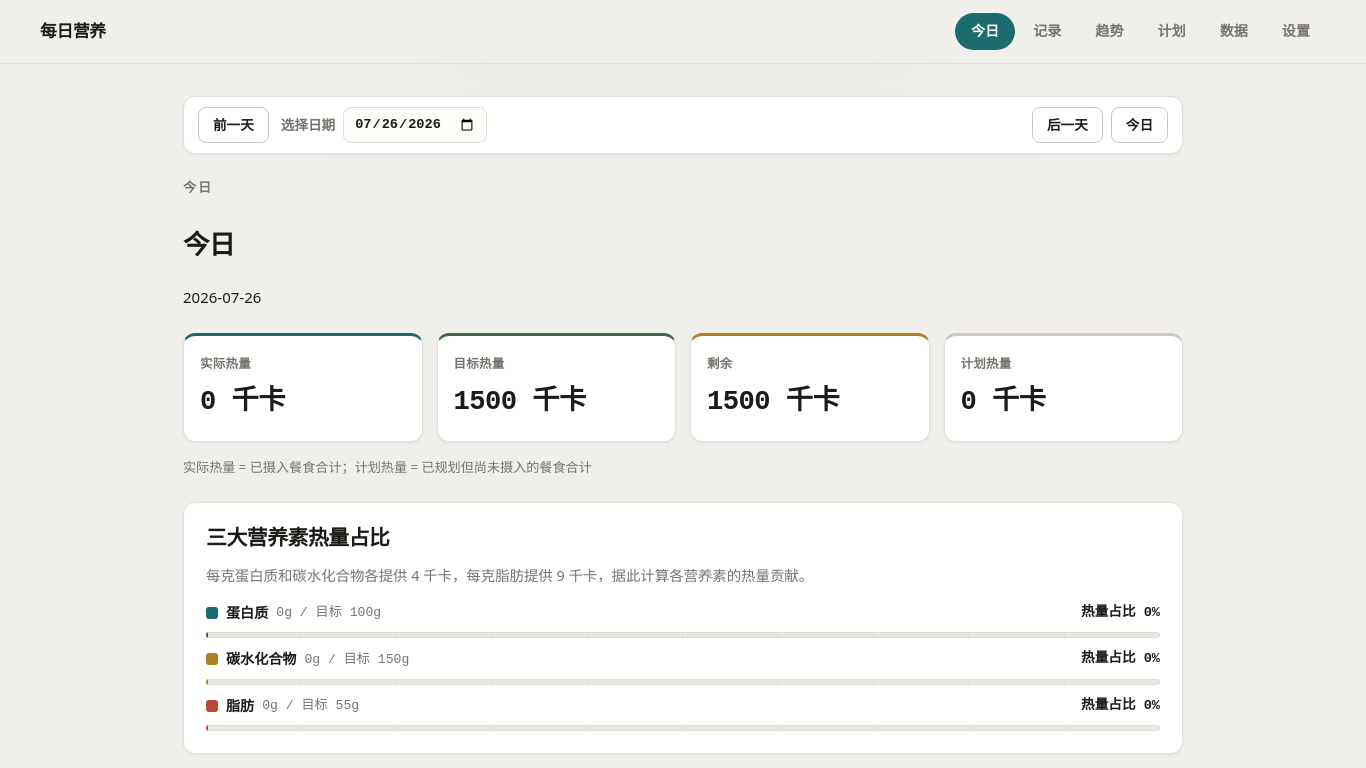
it: body metrics can be saved, edited, deleted, and shown with seven-day averages
Later steps or results of the test are not shown.
Expected: the heading "今日" is shown, [183,226,235,262]
Step 1. Click the button "趋势" → (1109, 31), box [1079,13,1140,50]
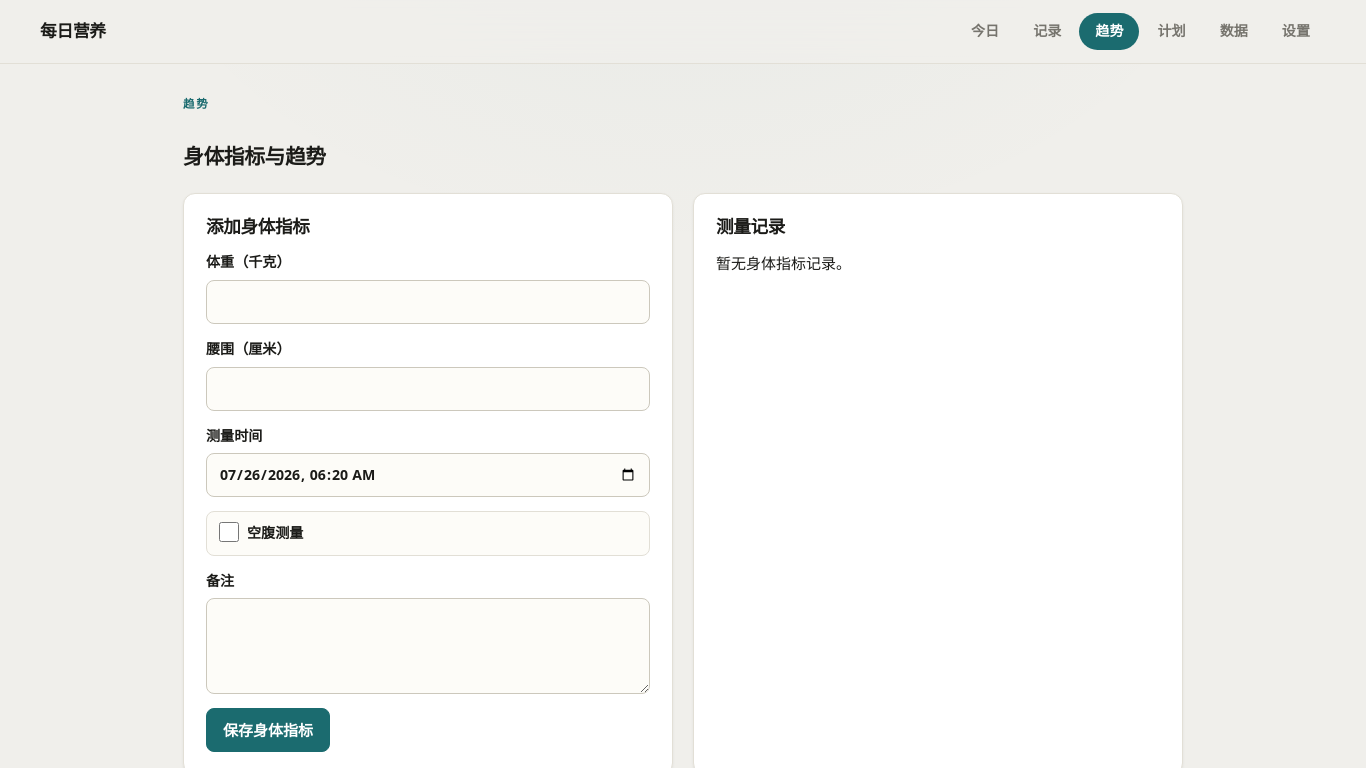
Now the heading "身体指标与趋势" is shown, box [183,142,326,170]
